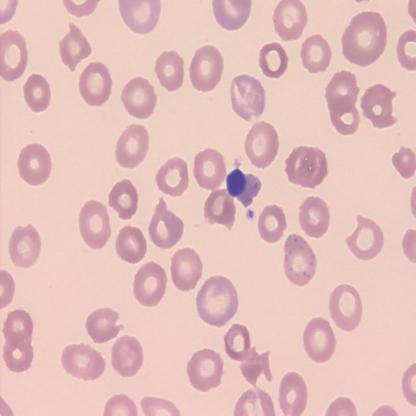NRC: (225, 165, 262, 210)
